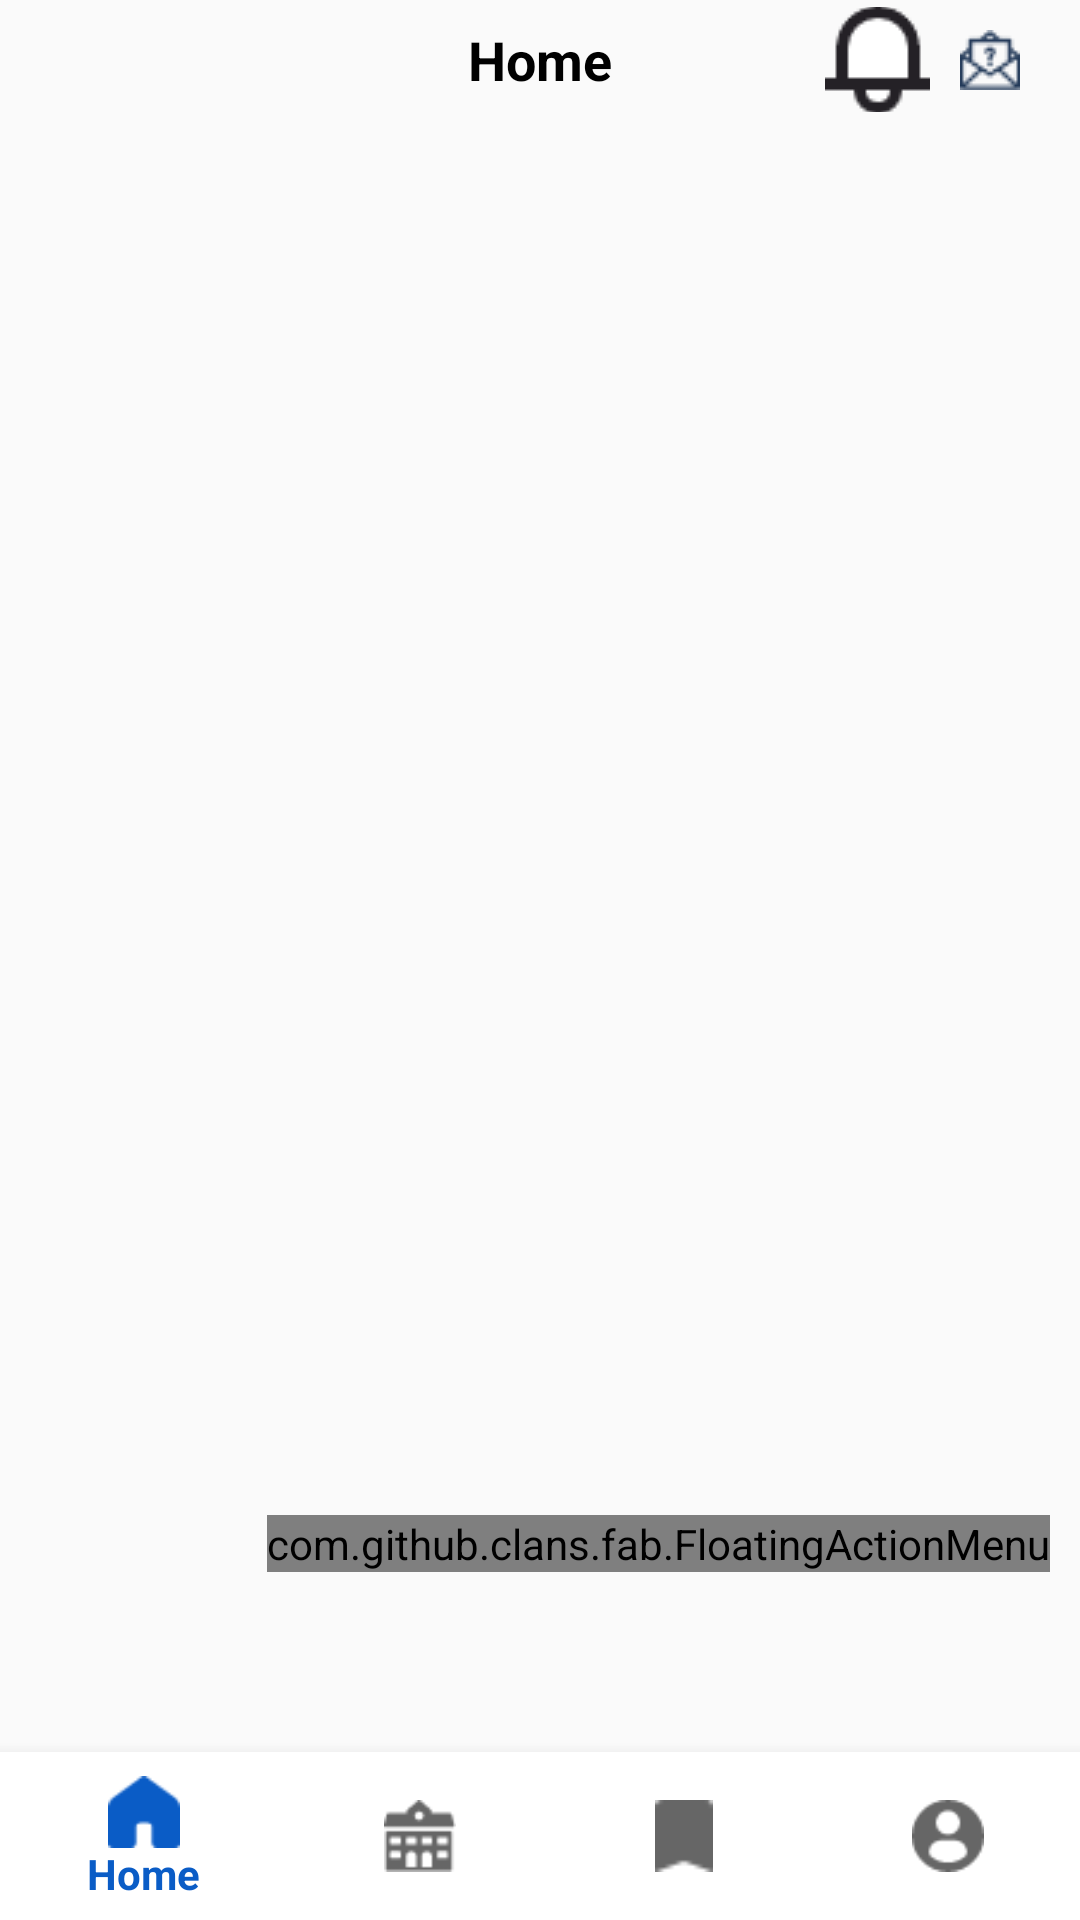

Point at icon controls on the screen. Image size 1080 x 1920, points as point (x, y).
notification: point (877, 59)
question: point (990, 60)
